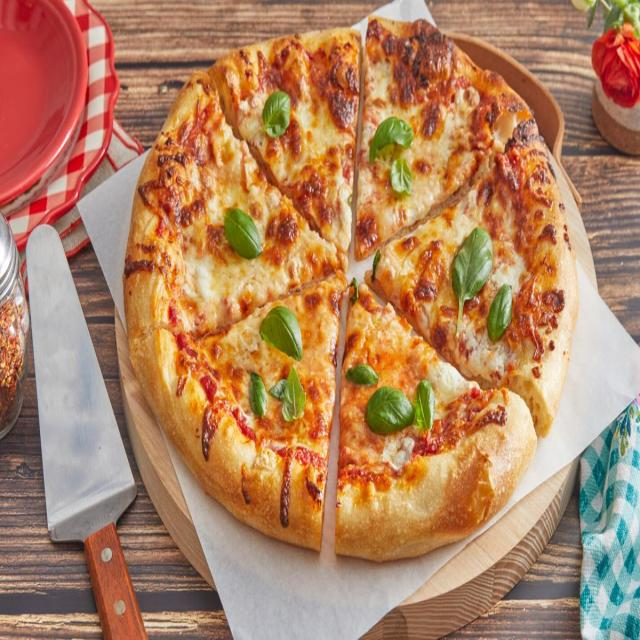피자: (118, 10, 602, 569)
